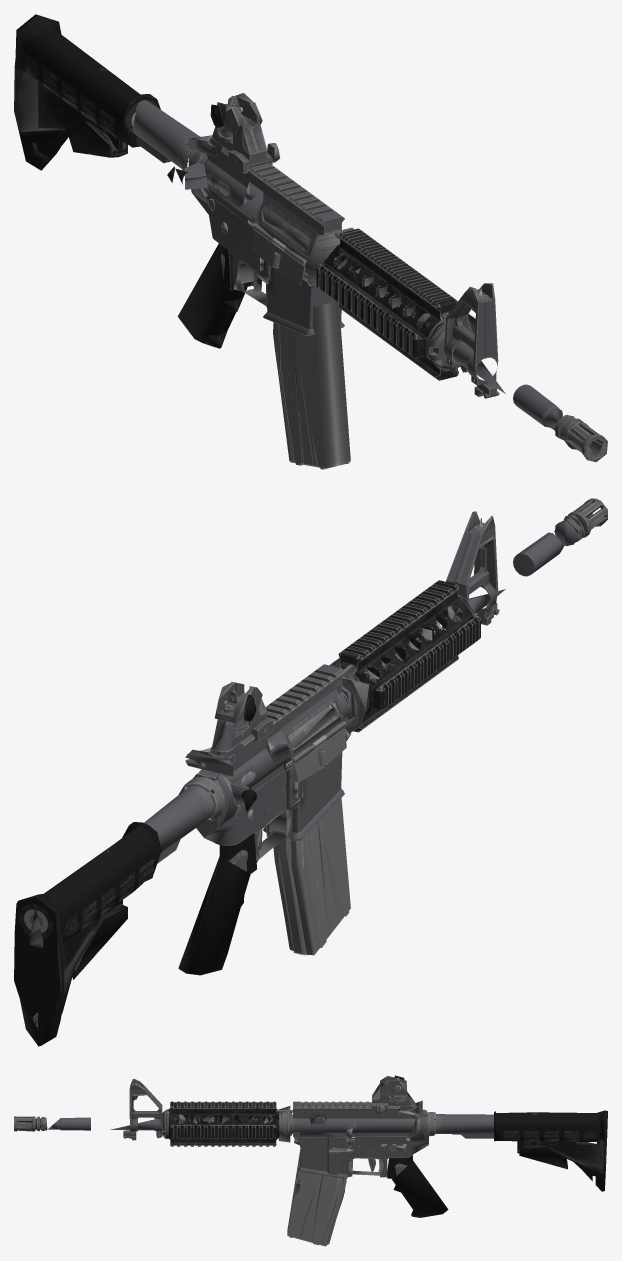
File: m4a1_leve.glb
3 renders of one model, top to bottom at view 1: azimuth 30°, elevation 25°; view 2: azimuth 150°, elevation 25°; view 3: azimuth 270°, elevation 25°, orthographic. The views are drawn at different scales.
Visible parts, largest first — view 1: base, part_low, magazine, rear sight.001, part.043_low; view 2: base, part_low, magazine, rear sight.001, part.043_low, charging handle; view 3: base, part_low, magazine, rear sight.001.
Part boxes in pixels (box(x1,y1,x2,y2)): base: box(132, 100, 607, 462); part_low: box(14, 14, 160, 170); magazine: box(273, 301, 350, 469); rear sight.001: box(210, 93, 280, 173); part.043_low: box(252, 224, 306, 285); base: box(144, 498, 607, 975); part_low: box(14, 822, 161, 1046); magazine: box(273, 798, 350, 955); rear sight.001: box(212, 681, 273, 751); part.043_low: box(291, 721, 346, 782); charging handle: box(185, 749, 234, 776); base: box(14, 1079, 493, 1217); part_low: box(494, 1110, 607, 1191); magazine: box(287, 1148, 346, 1246); rear sight.001: box(372, 1075, 415, 1114).
Bounding box in the file's own units: 0.0688 × 0.2672 × 0.8654.
2 materials, 2 textured.
